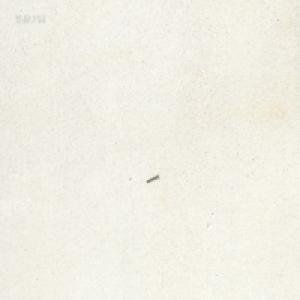Bolt: (145, 172, 158, 182)
